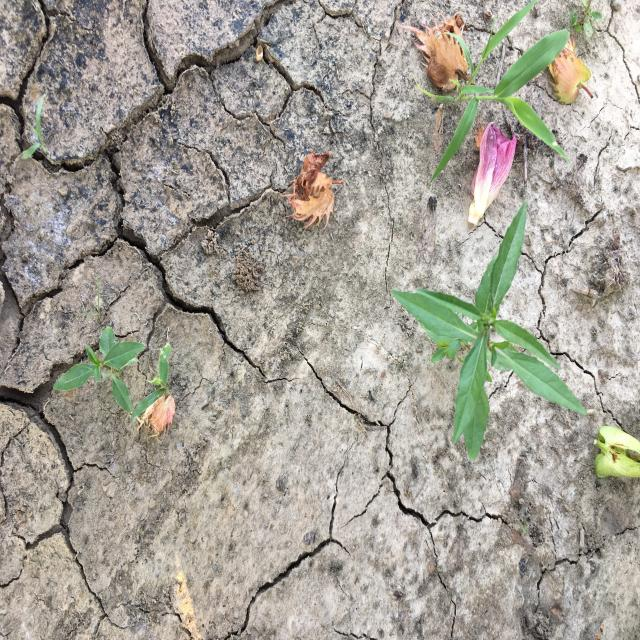Eclipta: (388, 200, 589, 463), (51, 325, 148, 415)
